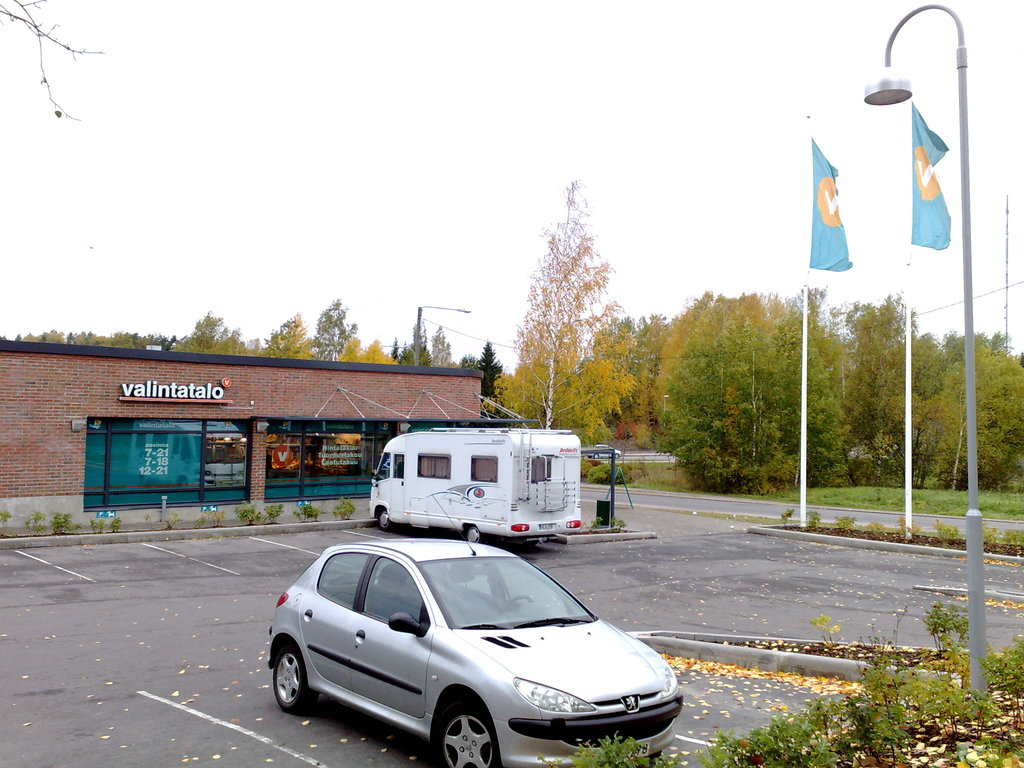Car: (265, 490, 679, 767), (585, 441, 620, 456)
